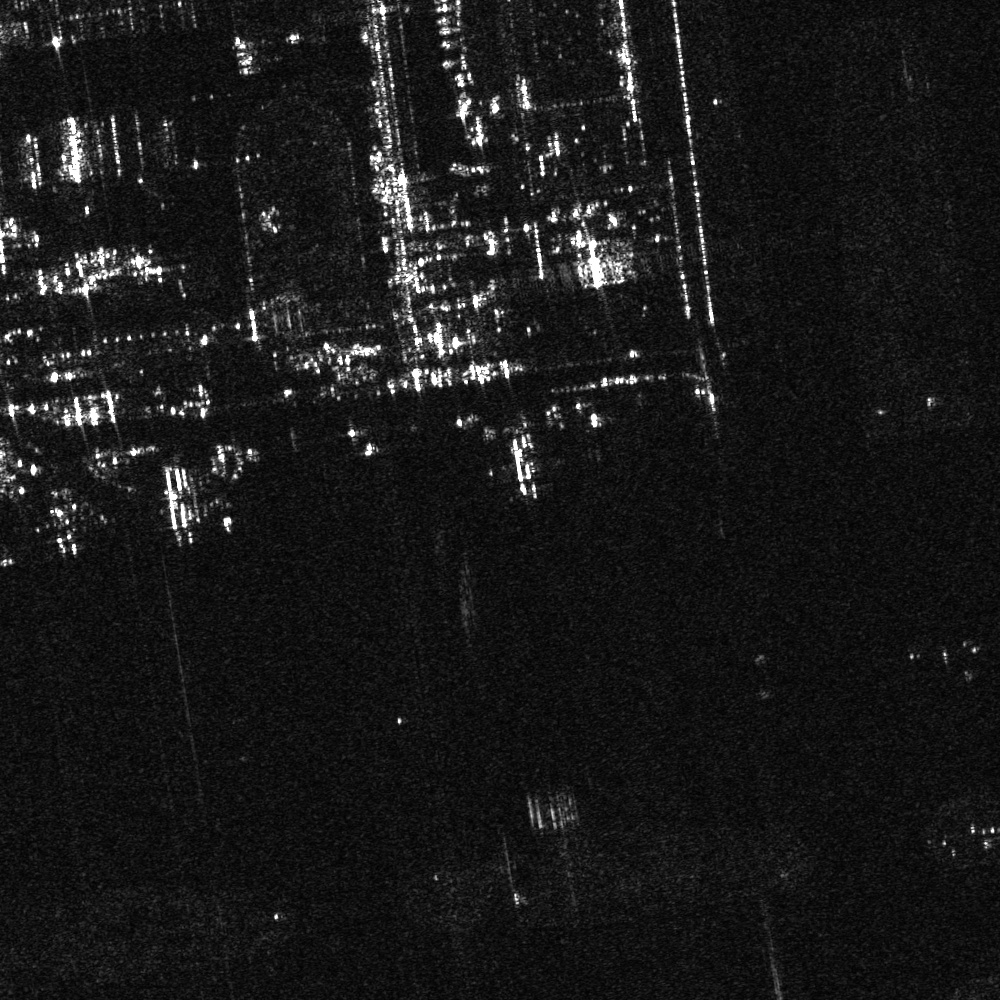Boeing737: (488, 426, 564, 501)
Boeing787: (31, 482, 105, 558)
